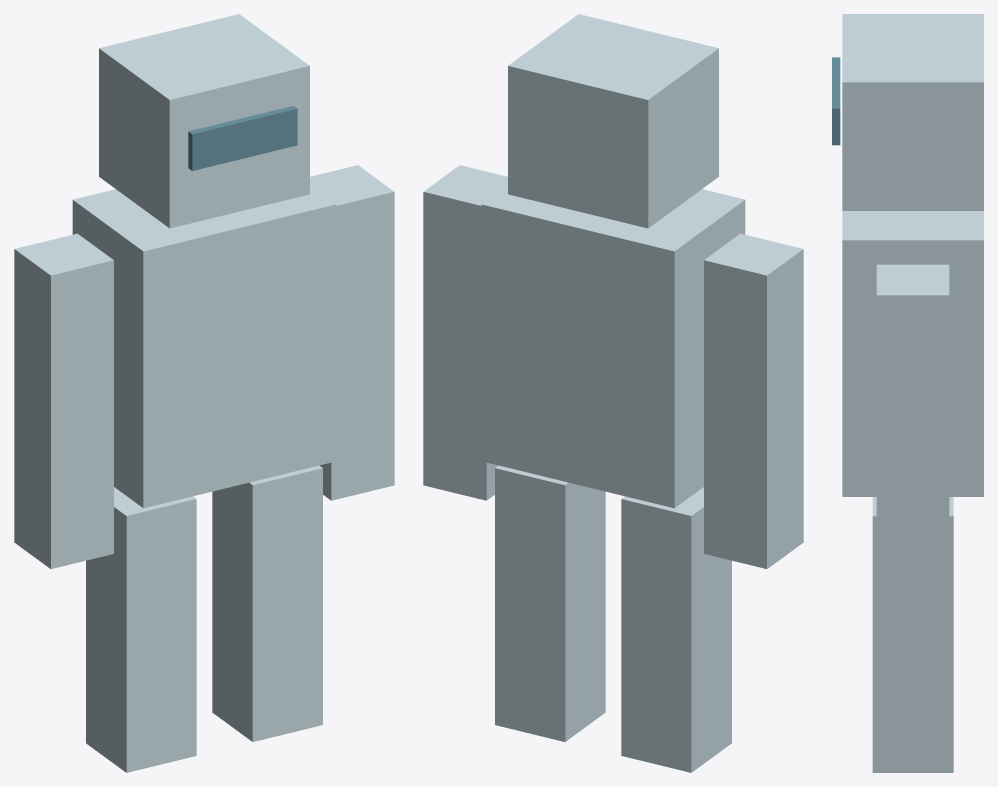
File: humanoid.glb
The picture shows the model from 3 angles, left to right: view 1: azimuth 30°, elevation 25°; view 2: azimuth 150°, elevation 25°; view 3: azimuth 270°, elevation 25°; orthographic projection.
Visible parts, largest first — view 1: torso, head, arm-0, leg-1, leg-0, arm-1, visor; view 2: torso, head, arm-0, leg-1, leg-0, arm-1; view 3: head, arm-1, torso, leg-1, visor.
Boxes of the visible parts, x1,y1,x2,y2 form: torso: (72,185,336,508); head: (99,14,309,228); arm-0: (14,233,113,568); leg-1: (212,465,322,741); leg-0: (86,487,196,772); arm-1: (310,165,394,500); visor: (188,106,297,170); torso: (481,185,745,508); head: (508,14,718,228); arm-0: (704,233,803,568); leg-1: (495,465,605,741); leg-0: (621,487,731,772); arm-1: (423,165,507,500); head: (842,14,983,210); arm-1: (876,264,949,588); torso: (842,211,983,496); leg-1: (872,497,953,772); visor: (832,57,840,145).
Size of the model in its own units: 0.98 by 1.84 by 0.375.
